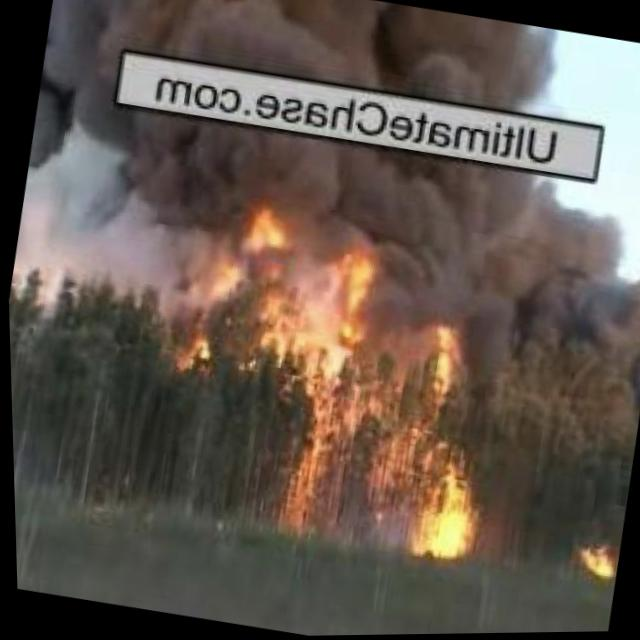Fire: (168, 199, 401, 552), (397, 419, 491, 568), (574, 542, 610, 582)
